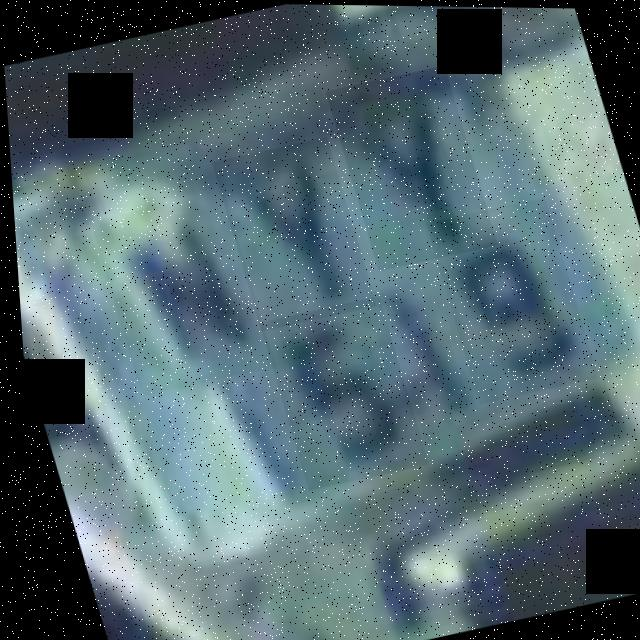1: (346, 267, 481, 434)
5: (253, 293, 423, 491)
9: (421, 194, 595, 404)
N: (85, 189, 273, 398)
Y: (323, 62, 495, 271), (207, 134, 374, 331)
